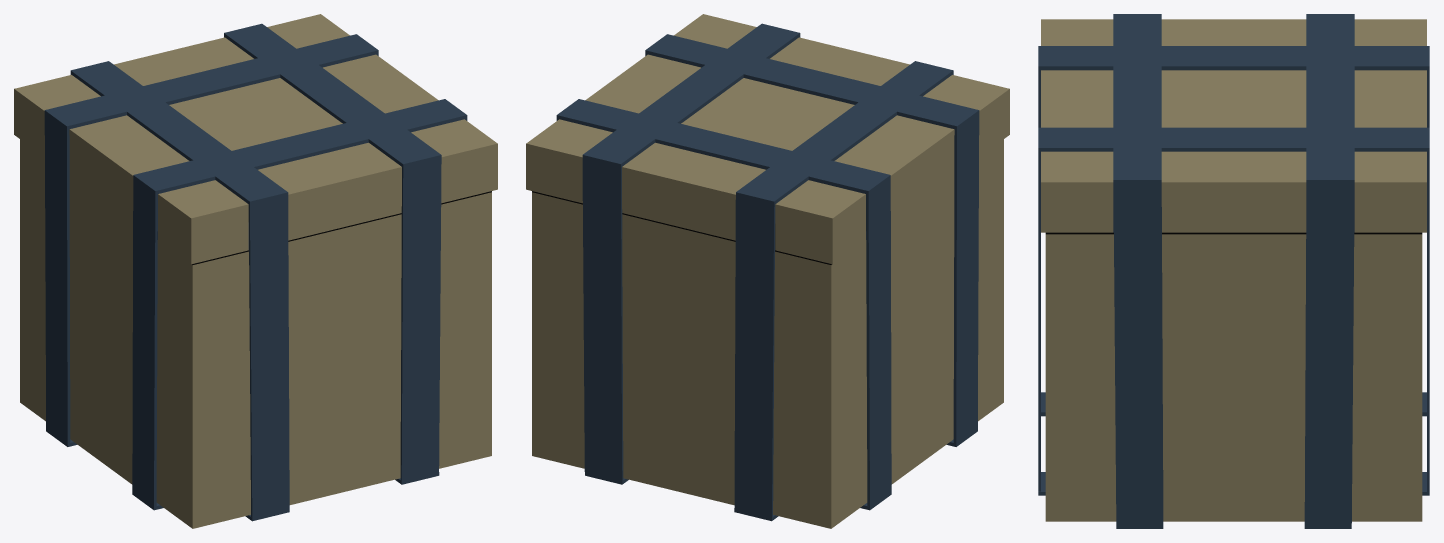
Rendered from Crate.fbx.
3 renders of one model, left to right at view 1: azimuth 30°, elevation 25°; view 2: azimuth 150°, elevation 25°; view 3: azimuth 270°, elevation 25°, orthographic. The views are drawn at different scales.
Parts seen in each view (by area): view 1: Cube; view 2: Cube; view 3: Cube.
Boxes of the visible parts, left/top/right/bottom form: Cube: left=14, top=14, right=497, bottom=528; Cube: left=526, top=14, right=1009, bottom=528; Cube: left=1038, top=14, right=1429, bottom=528.
Size of the model in its own units: 209 by 205 by 208.
